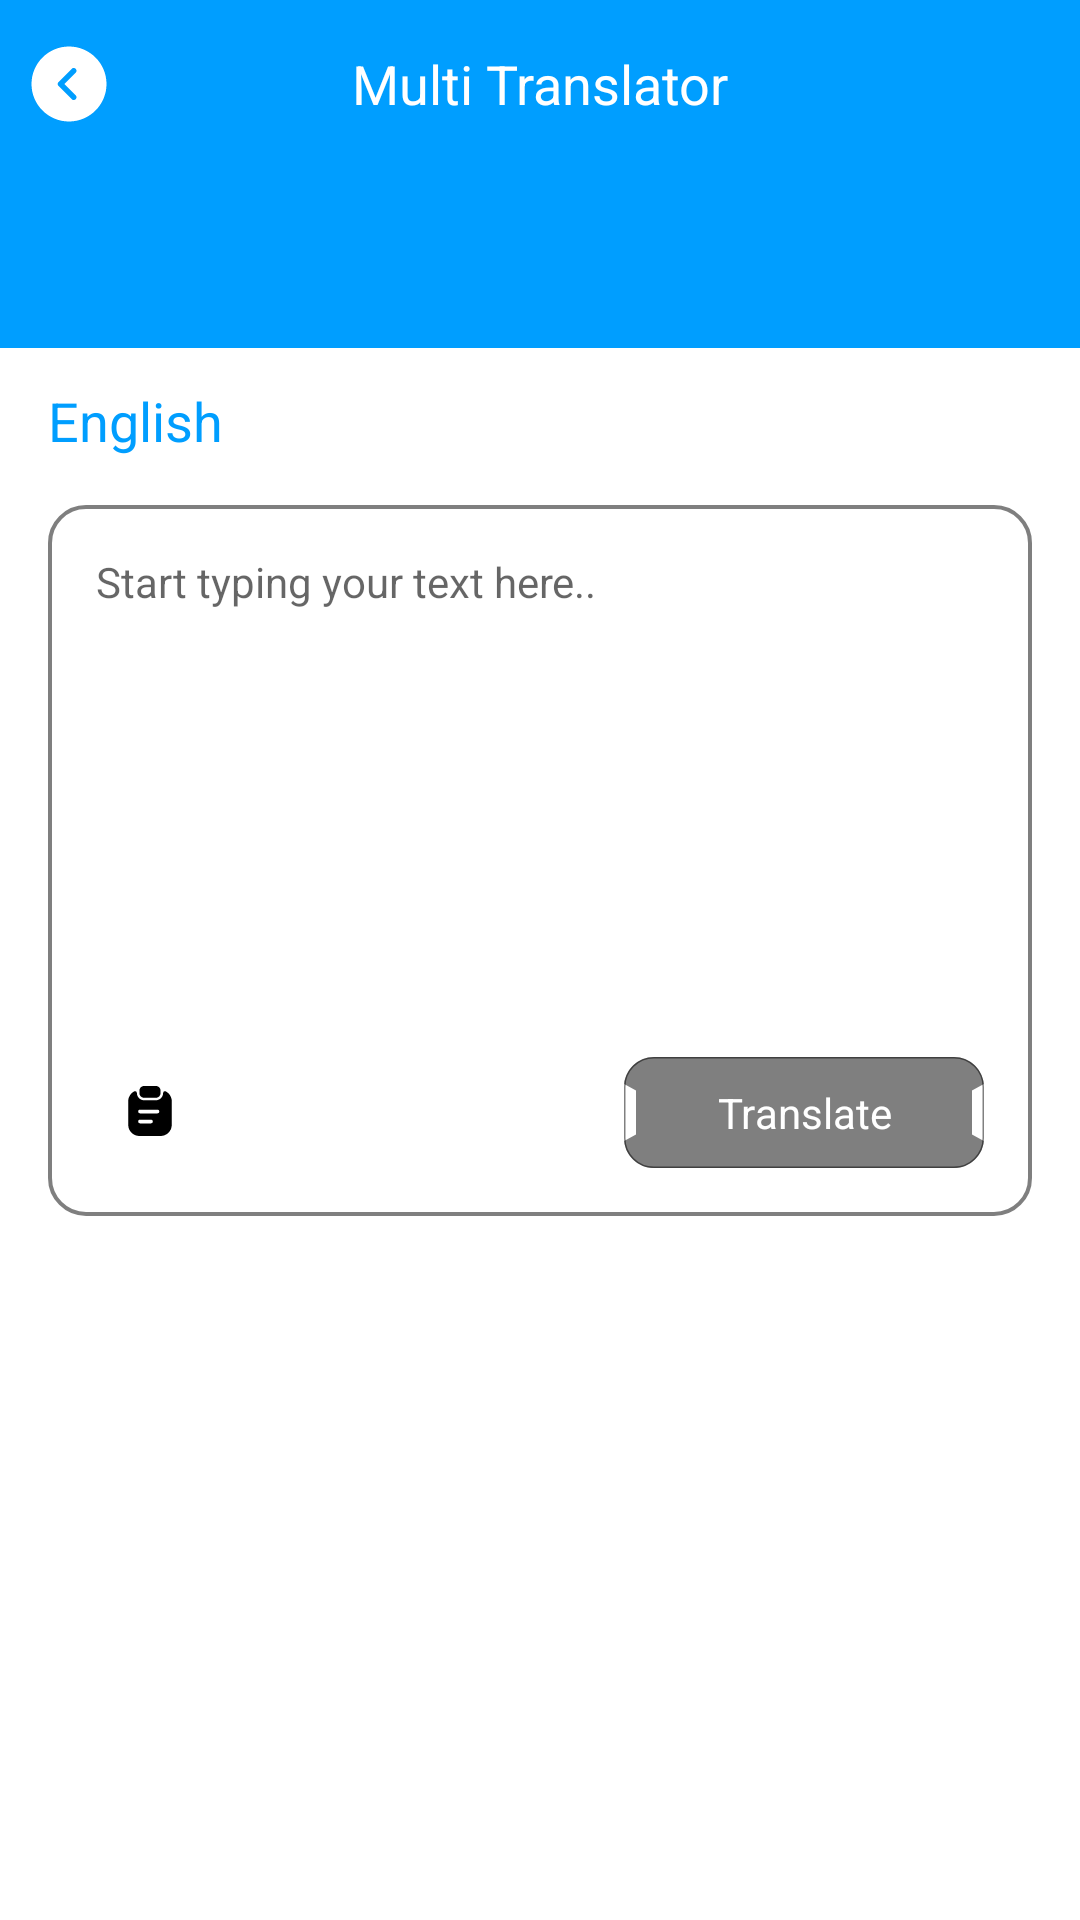

Icon click points for this 1080×1920 phone screenshot, format (x,y):
back circle: (69,84)
paste: (150,1111)
